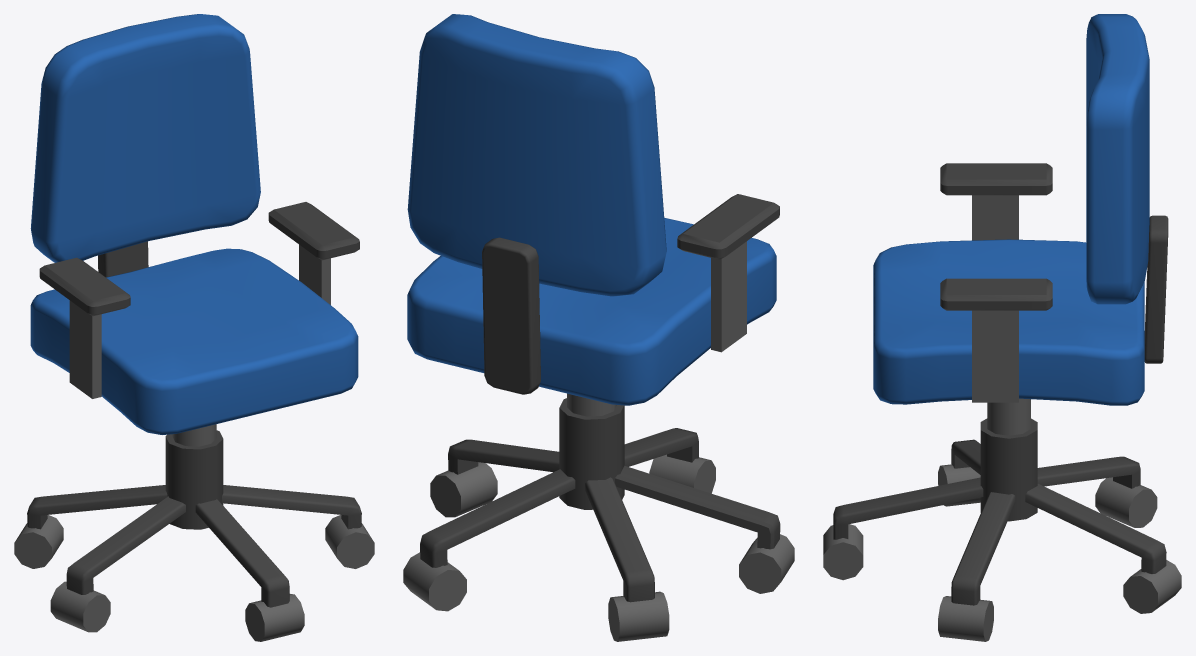
The model's file is Corwd_OfficeChail_01.fbx.
3 renders of one model, left to right at view 1: azimuth 30°, elevation 25°; view 2: azimuth 150°, elevation 25°; view 3: azimuth 270°, elevation 25°, orthographic. The views are drawn at different scales.
Parts seen in each view (by area): view 1: Corwd_OfficeChail_01; view 2: Corwd_OfficeChail_01; view 3: Corwd_OfficeChail_01.
Boxes of the visible parts, <box> form: Corwd_OfficeChail_01: <box>14,14,374,641</box>; Corwd_OfficeChail_01: <box>403,14,794,641</box>; Corwd_OfficeChail_01: <box>823,14,1181,641</box>.
Size of the model in its own units: 126 by 195 by 122.
